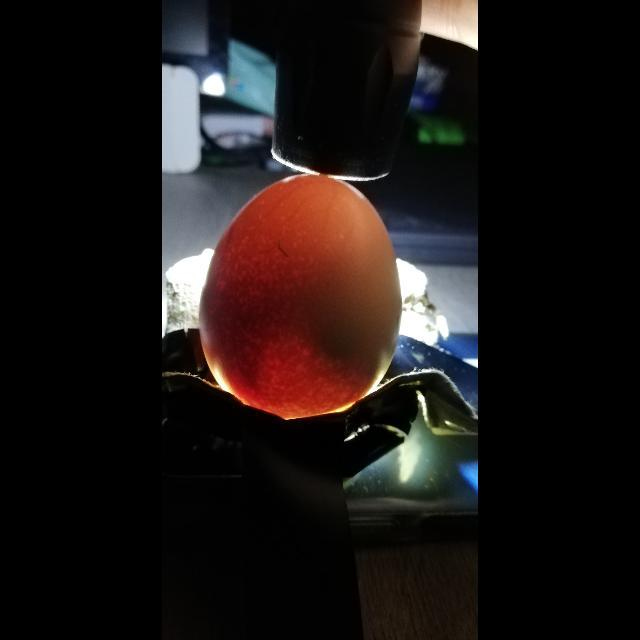Fertile: (194, 167, 403, 417)
